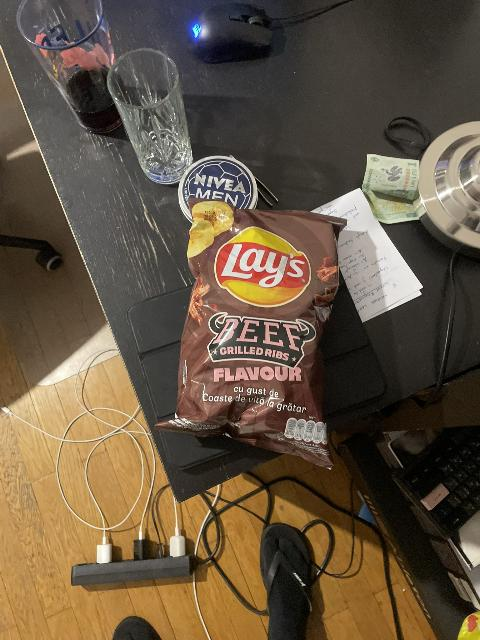Lays Beef Grilled Ribs 125g: (156, 213, 346, 472)
